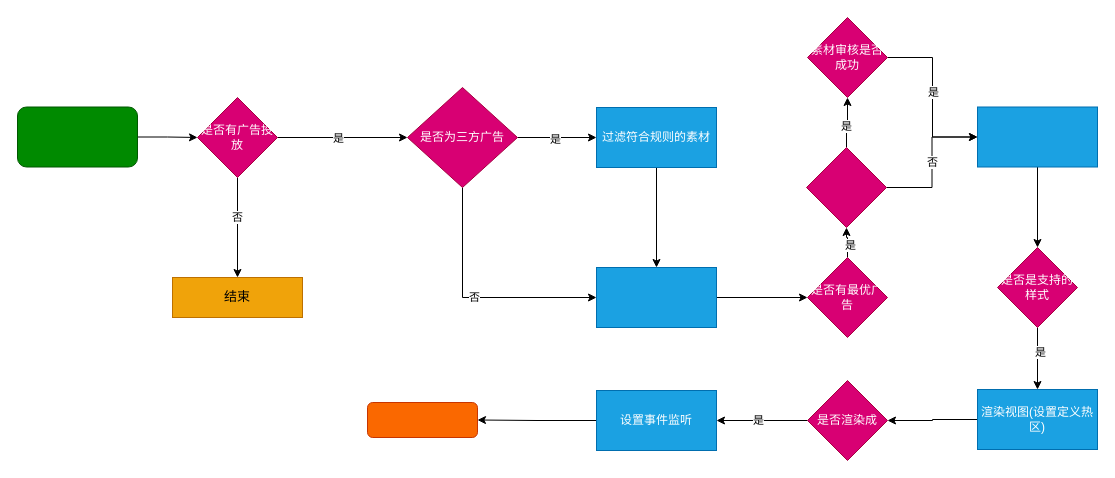
The diagram is 1115 pixels wide and 478 high, and some of its shapes have lost their labels. Here are the shapes that lost their labels. From the top down, the box of each, then its label:
(16, 106, 138, 167): 开始
(976, 106, 1098, 167): 适配投放样式
(806, 146, 886, 228): 是否为SDK广告
(596, 266, 716, 328): 分层竞价
(366, 402, 478, 438): 完成
